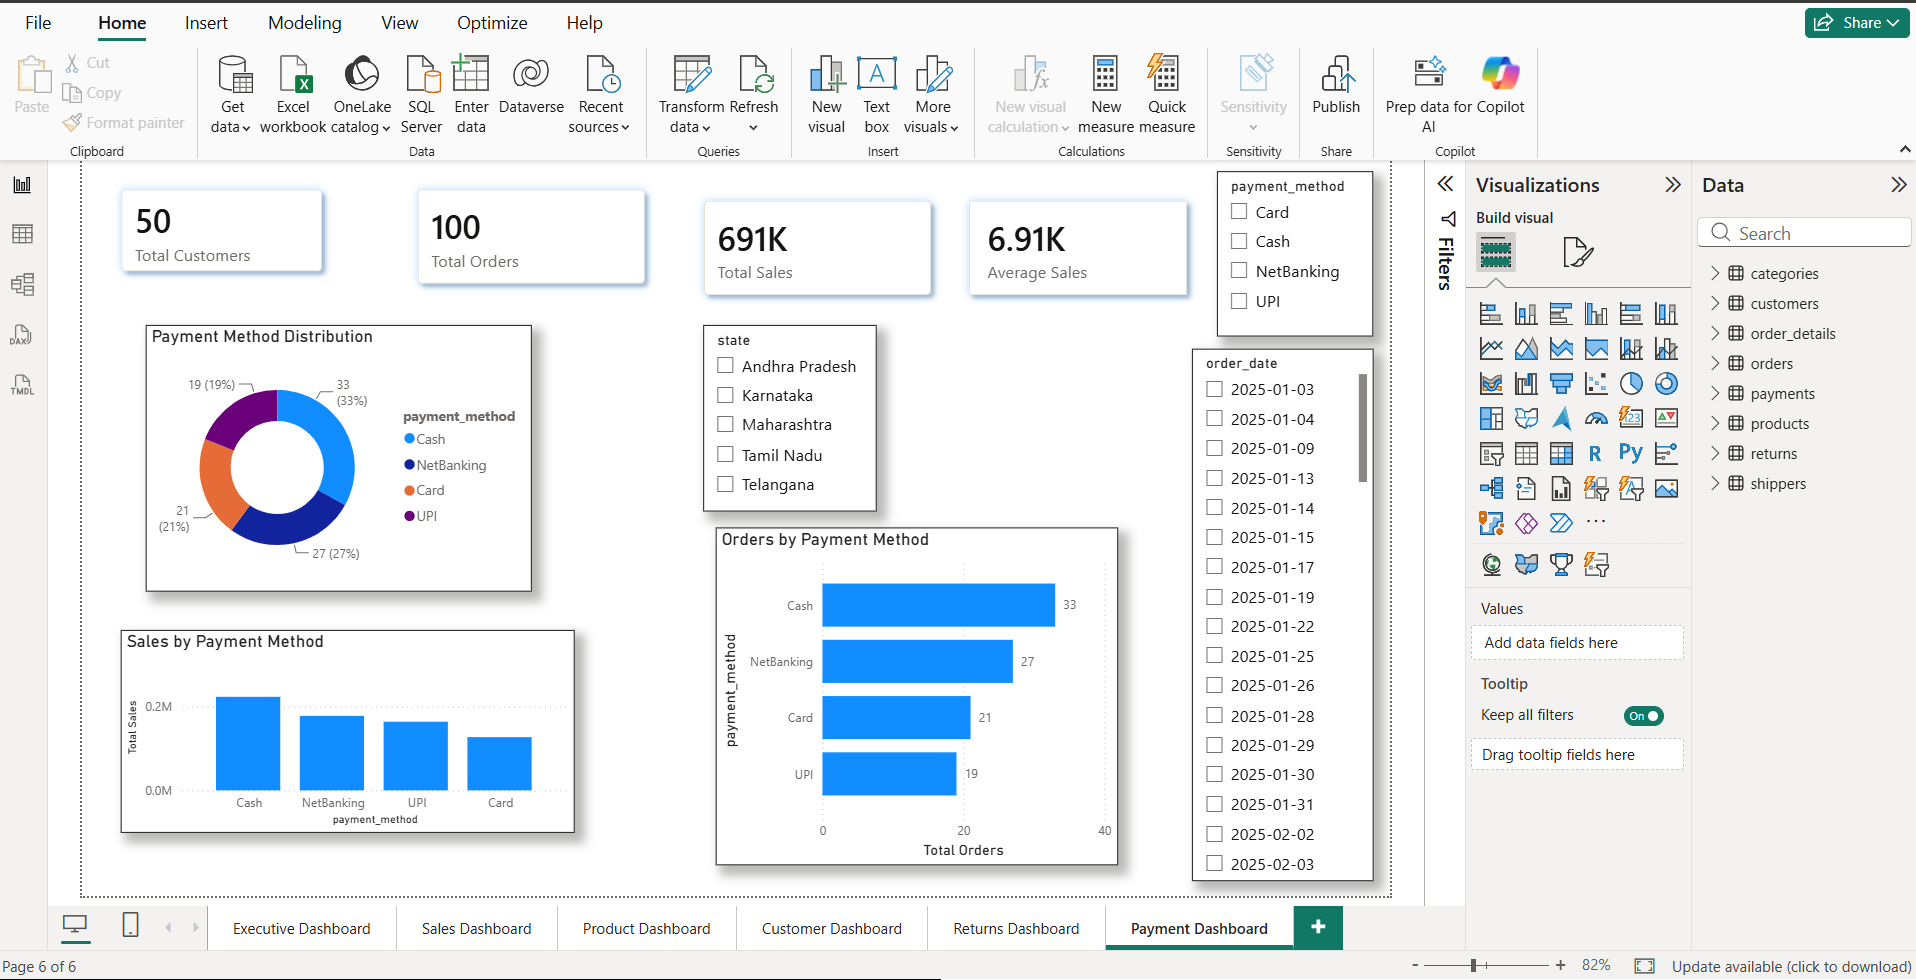

Layout of this report page (visuals, bound fields, positions):
{"tool":"powerbi","page":{"name":"Payment Dashboard","canvas":[1280,720],"ordinal":5},"visuals":[{"type":"cardVisual","fields":{"Data":["categories.Total Customers"]},"box":[9.8,0,254.3,138.2],"z":0},{"type":"cardVisual","fields":{"Data":["categories.Average Sales"]},"box":[838.9,11,271.5,150.4],"z":1000},{"type":"cardVisual","fields":{"Data":["categories.Total Sales"]},"box":[579.6,11,280,150.4],"z":2000},{"type":"cardVisual","fields":{"Data":["categories.Total Orders"]},"box":[299.6,0,280,150.4],"z":3000},{"type":"donutChart","title":"Payment Method Distribution","fields":{"Category":["payments.payment_method"],"Y":["CountNonNull(payments.payment_method)"]},"box":[62.4,161.4,377.9,260.5],"z":4000},{"type":"clusteredColumnChart","title":"Sales by Payment Method","fields":{"Category":["payments.payment_method"],"Y":["categories.Total Sales"]},"box":[37.9,459.8,443.9,198.1],"z":5000},{"type":"clusteredBarChart","title":"Orders by Payment Method","fields":{"Category":["payments.payment_method"],"Y":["categories.Total Orders"]},"box":[620,359.5,393.8,330.2],"z":6000},{"type":"slicer","fields":{"Values":["payments.payment_method"]},"box":[1110.3,11,152.9,161.4],"z":7000},{"type":"slicer","fields":{"Values":["customers.state"]},"box":[607.7,161.4,170,182.2],"z":8000},{"type":"slicer","fields":{"Values":["orders.order_date"]},"box":[1085.9,184.6,177.3,520.9],"z":9000}]}

Visuals, with their boxes on the page's 1280x720 design canvas (x1, y1, x2, y2). These are canvas units, not pixel positions in the 1916x980 screenshot, which may show the page scaled, cropped or inside an application window:
cardVisual - categories.Total Customers: BBox(10, 0, 264, 138)
cardVisual - categories.Average Sales: BBox(839, 11, 1110, 161)
cardVisual - categories.Total Sales: BBox(580, 11, 860, 161)
cardVisual - categories.Total Orders: BBox(300, 0, 580, 150)
"Payment Method Distribution" donutChart: BBox(62, 161, 440, 422)
"Sales by Payment Method" clusteredColumnChart: BBox(38, 460, 482, 658)
"Orders by Payment Method" clusteredBarChart: BBox(620, 360, 1014, 690)
slicer - payments.payment_method: BBox(1110, 11, 1263, 172)
slicer - customers.state: BBox(608, 161, 778, 344)
slicer - orders.order_date: BBox(1086, 185, 1263, 706)
